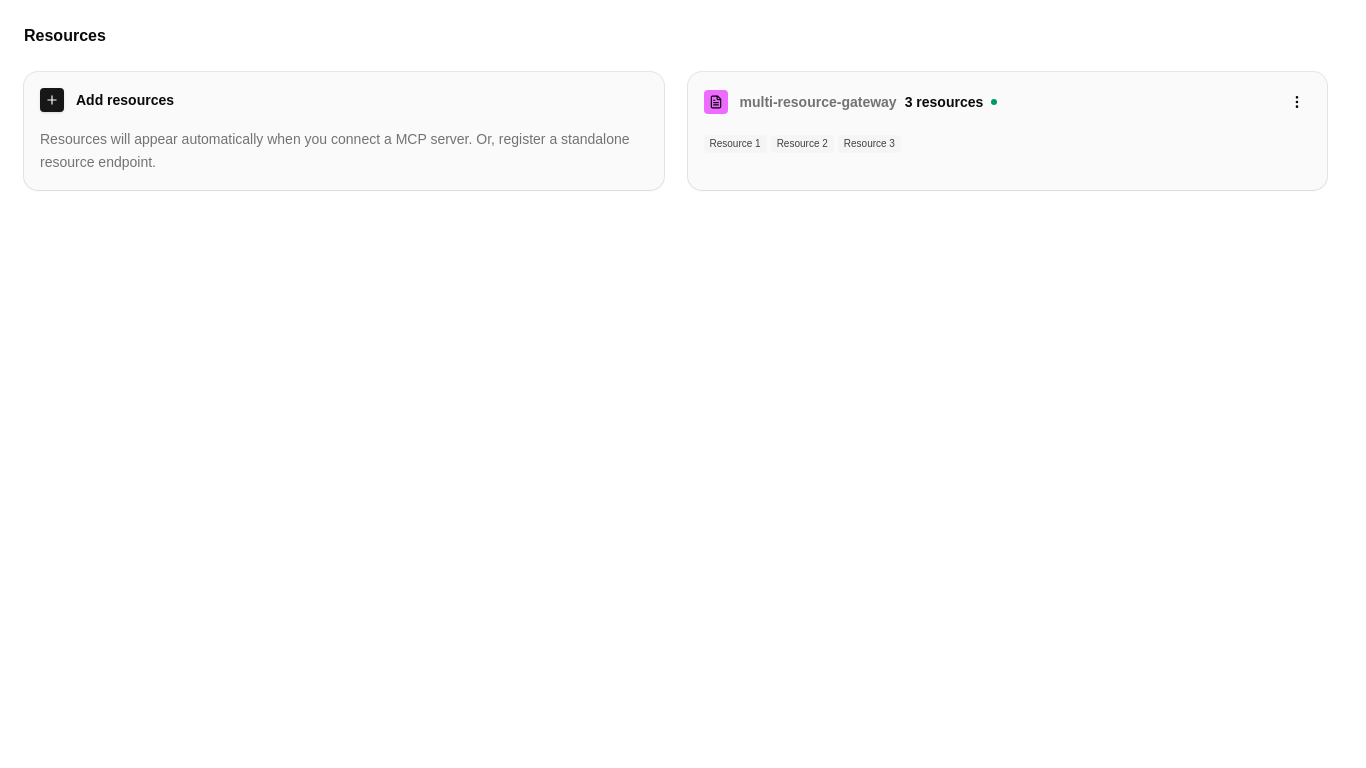
Test: Resources › Dropdown Menu and Details Panel › displays all resources from selected group in details panel
This screenshot has width=1366, height=768.
Expected: the text "multi-resource-gateway" is shown, top-left (740, 92), bottom-right (897, 112)
Click the button named "More options for multi-resource-gateway" at [1297, 102], box top-left (1283, 88), bottom-right (1311, 116)
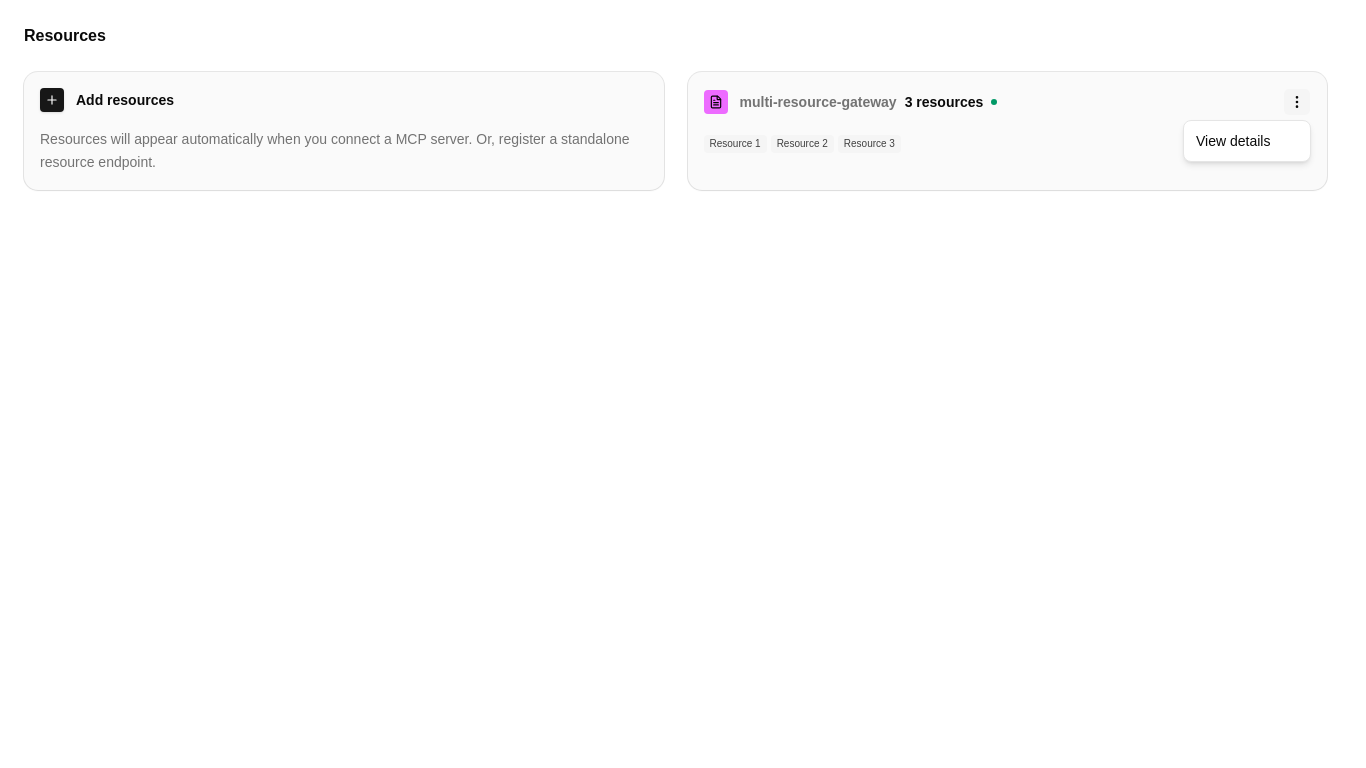
Click the menu item "View details" at [1233, 141], box top-left (1196, 133), bottom-right (1270, 149)
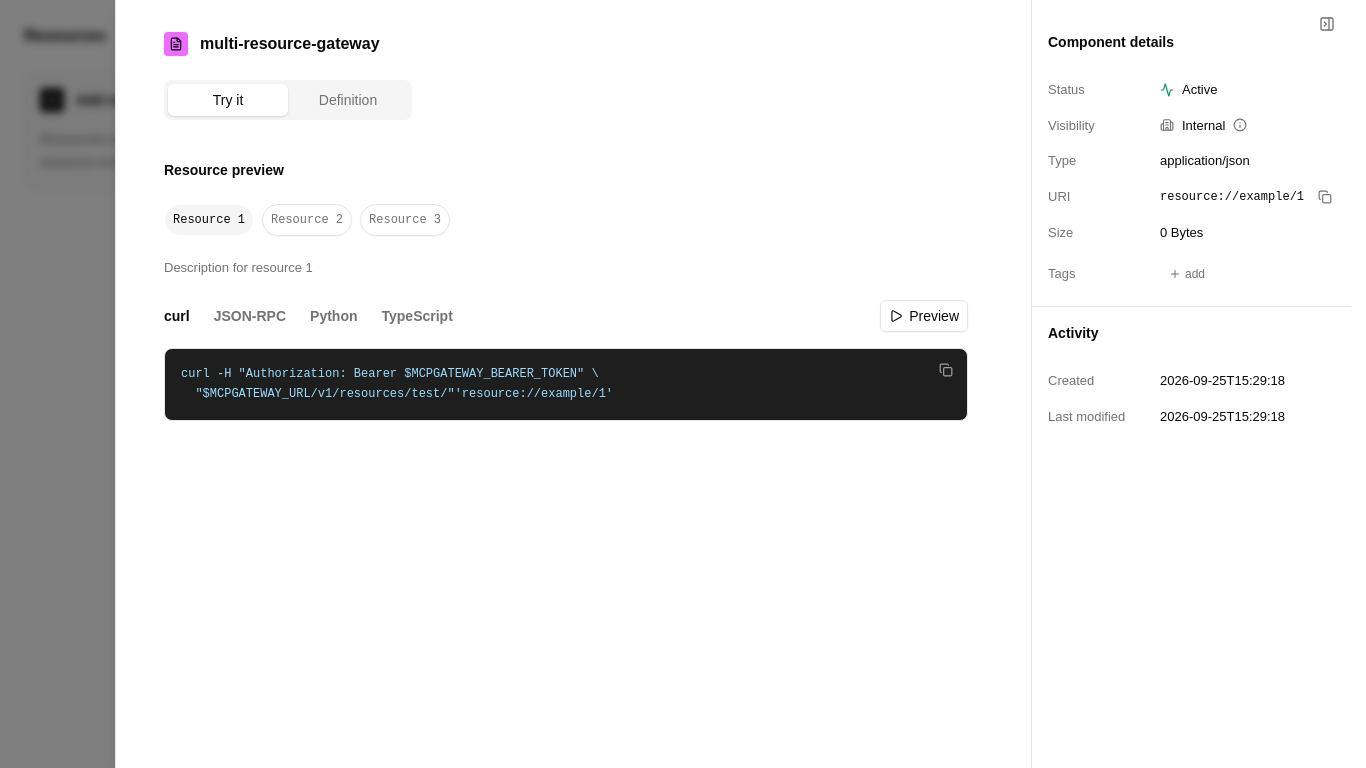
Expected: the element named "Resources for multi-resource-gateway" is shown
Expected: the button "Resource 1" is shown, top-left (164, 204), bottom-right (254, 236)
Expected: the button "Resource 2" is shown, top-left (262, 204), bottom-right (352, 236)
